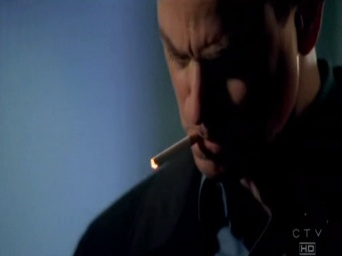smoke: (149, 132, 198, 166)
